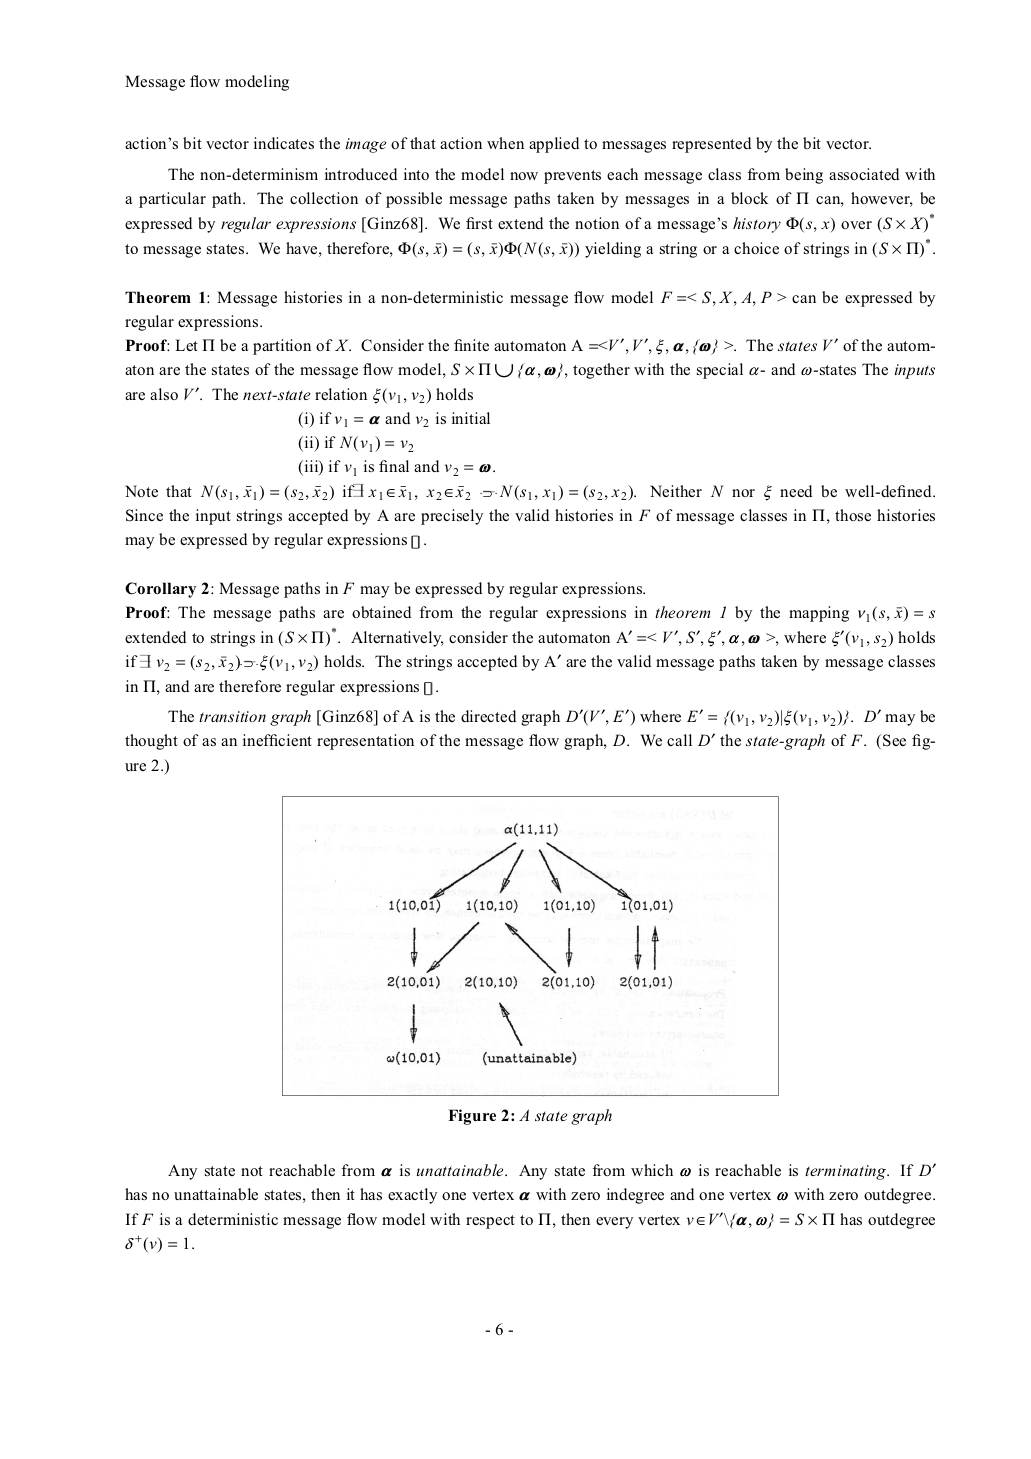figure: (282, 795, 778, 1096)
